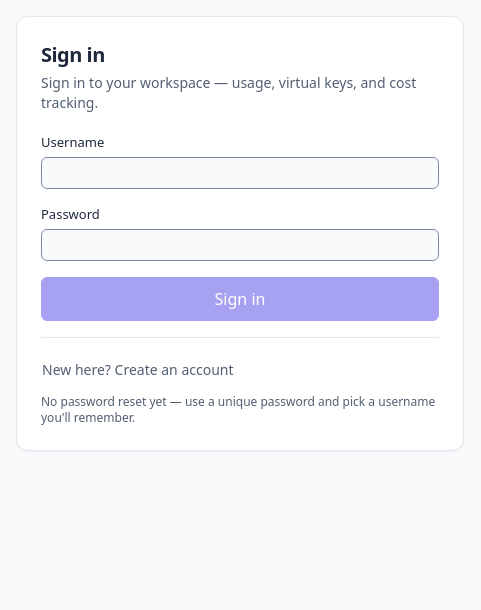
Test case: Login / sign-up form › shows the error message from a rejected sign-up as plain text
The image size is (481, 610).
Click the button "New here? Create an account". click: (138, 370)
box: [29, 354, 246, 386]
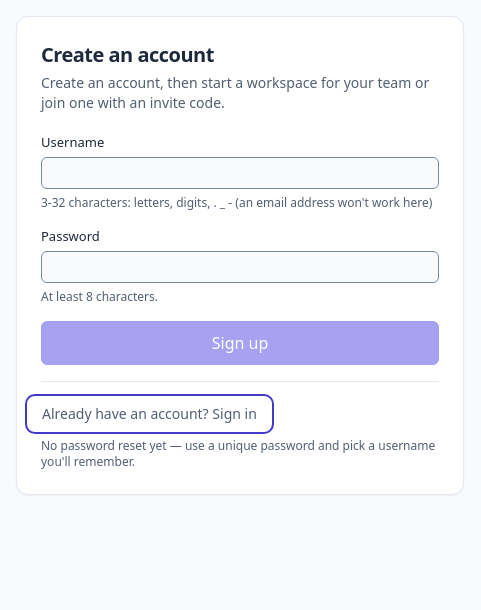
Type "dhilip.s" into the field labelled "Username". click: (240, 173)
box: [41, 157, 439, 189]
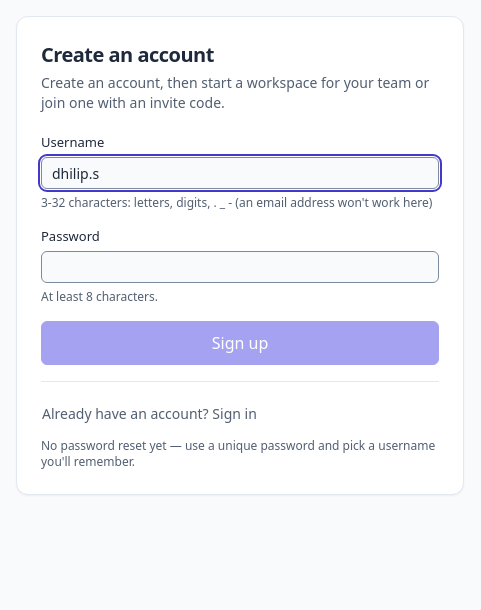
Type "password1" into the password field labelled "Password". click: (240, 267)
box: [41, 251, 439, 283]
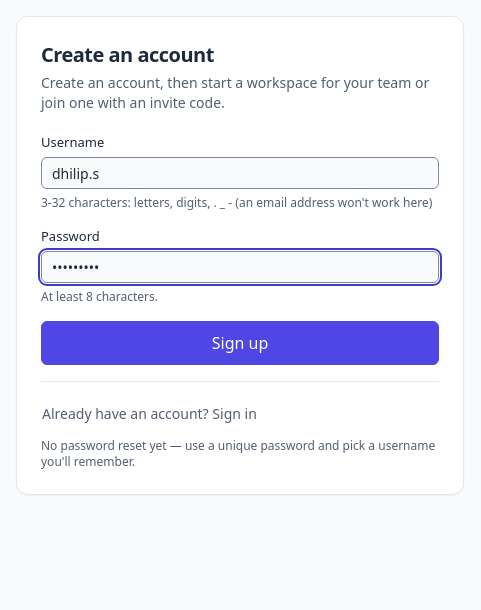
Click the button "Sign up". click: (240, 343)
box: [41, 321, 439, 365]
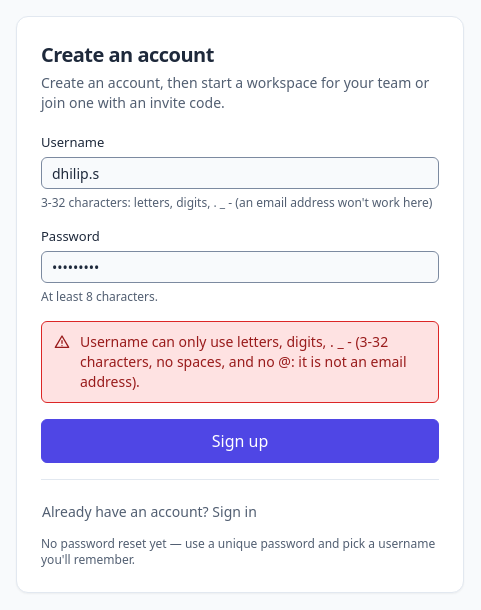
Expected: the text "Username can only use letters" is shown, [80, 332, 407, 391]
